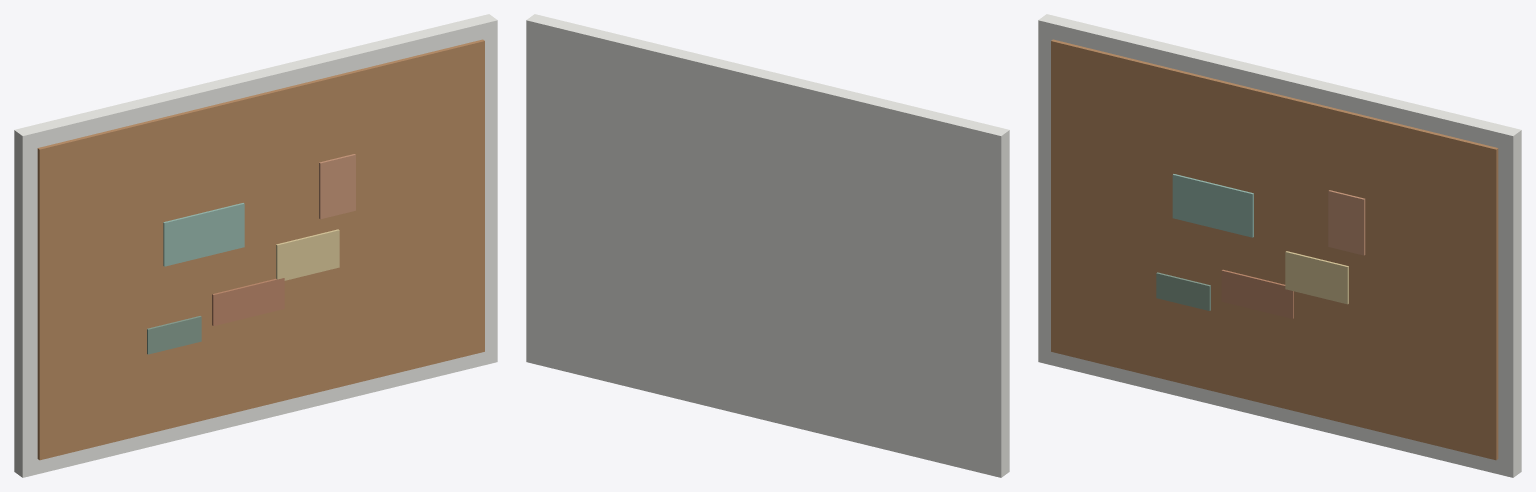
Rendered from wall-art.glb.
The picture shows the model from 3 angles, left to right: view 1: azimuth 30°, elevation 25°; view 2: azimuth 150°, elevation 25°; view 3: azimuth 330°, elevation 25°; orthographic projection.
Size of the model in its own units: 0.64 by 0.44 by 0.0285.
